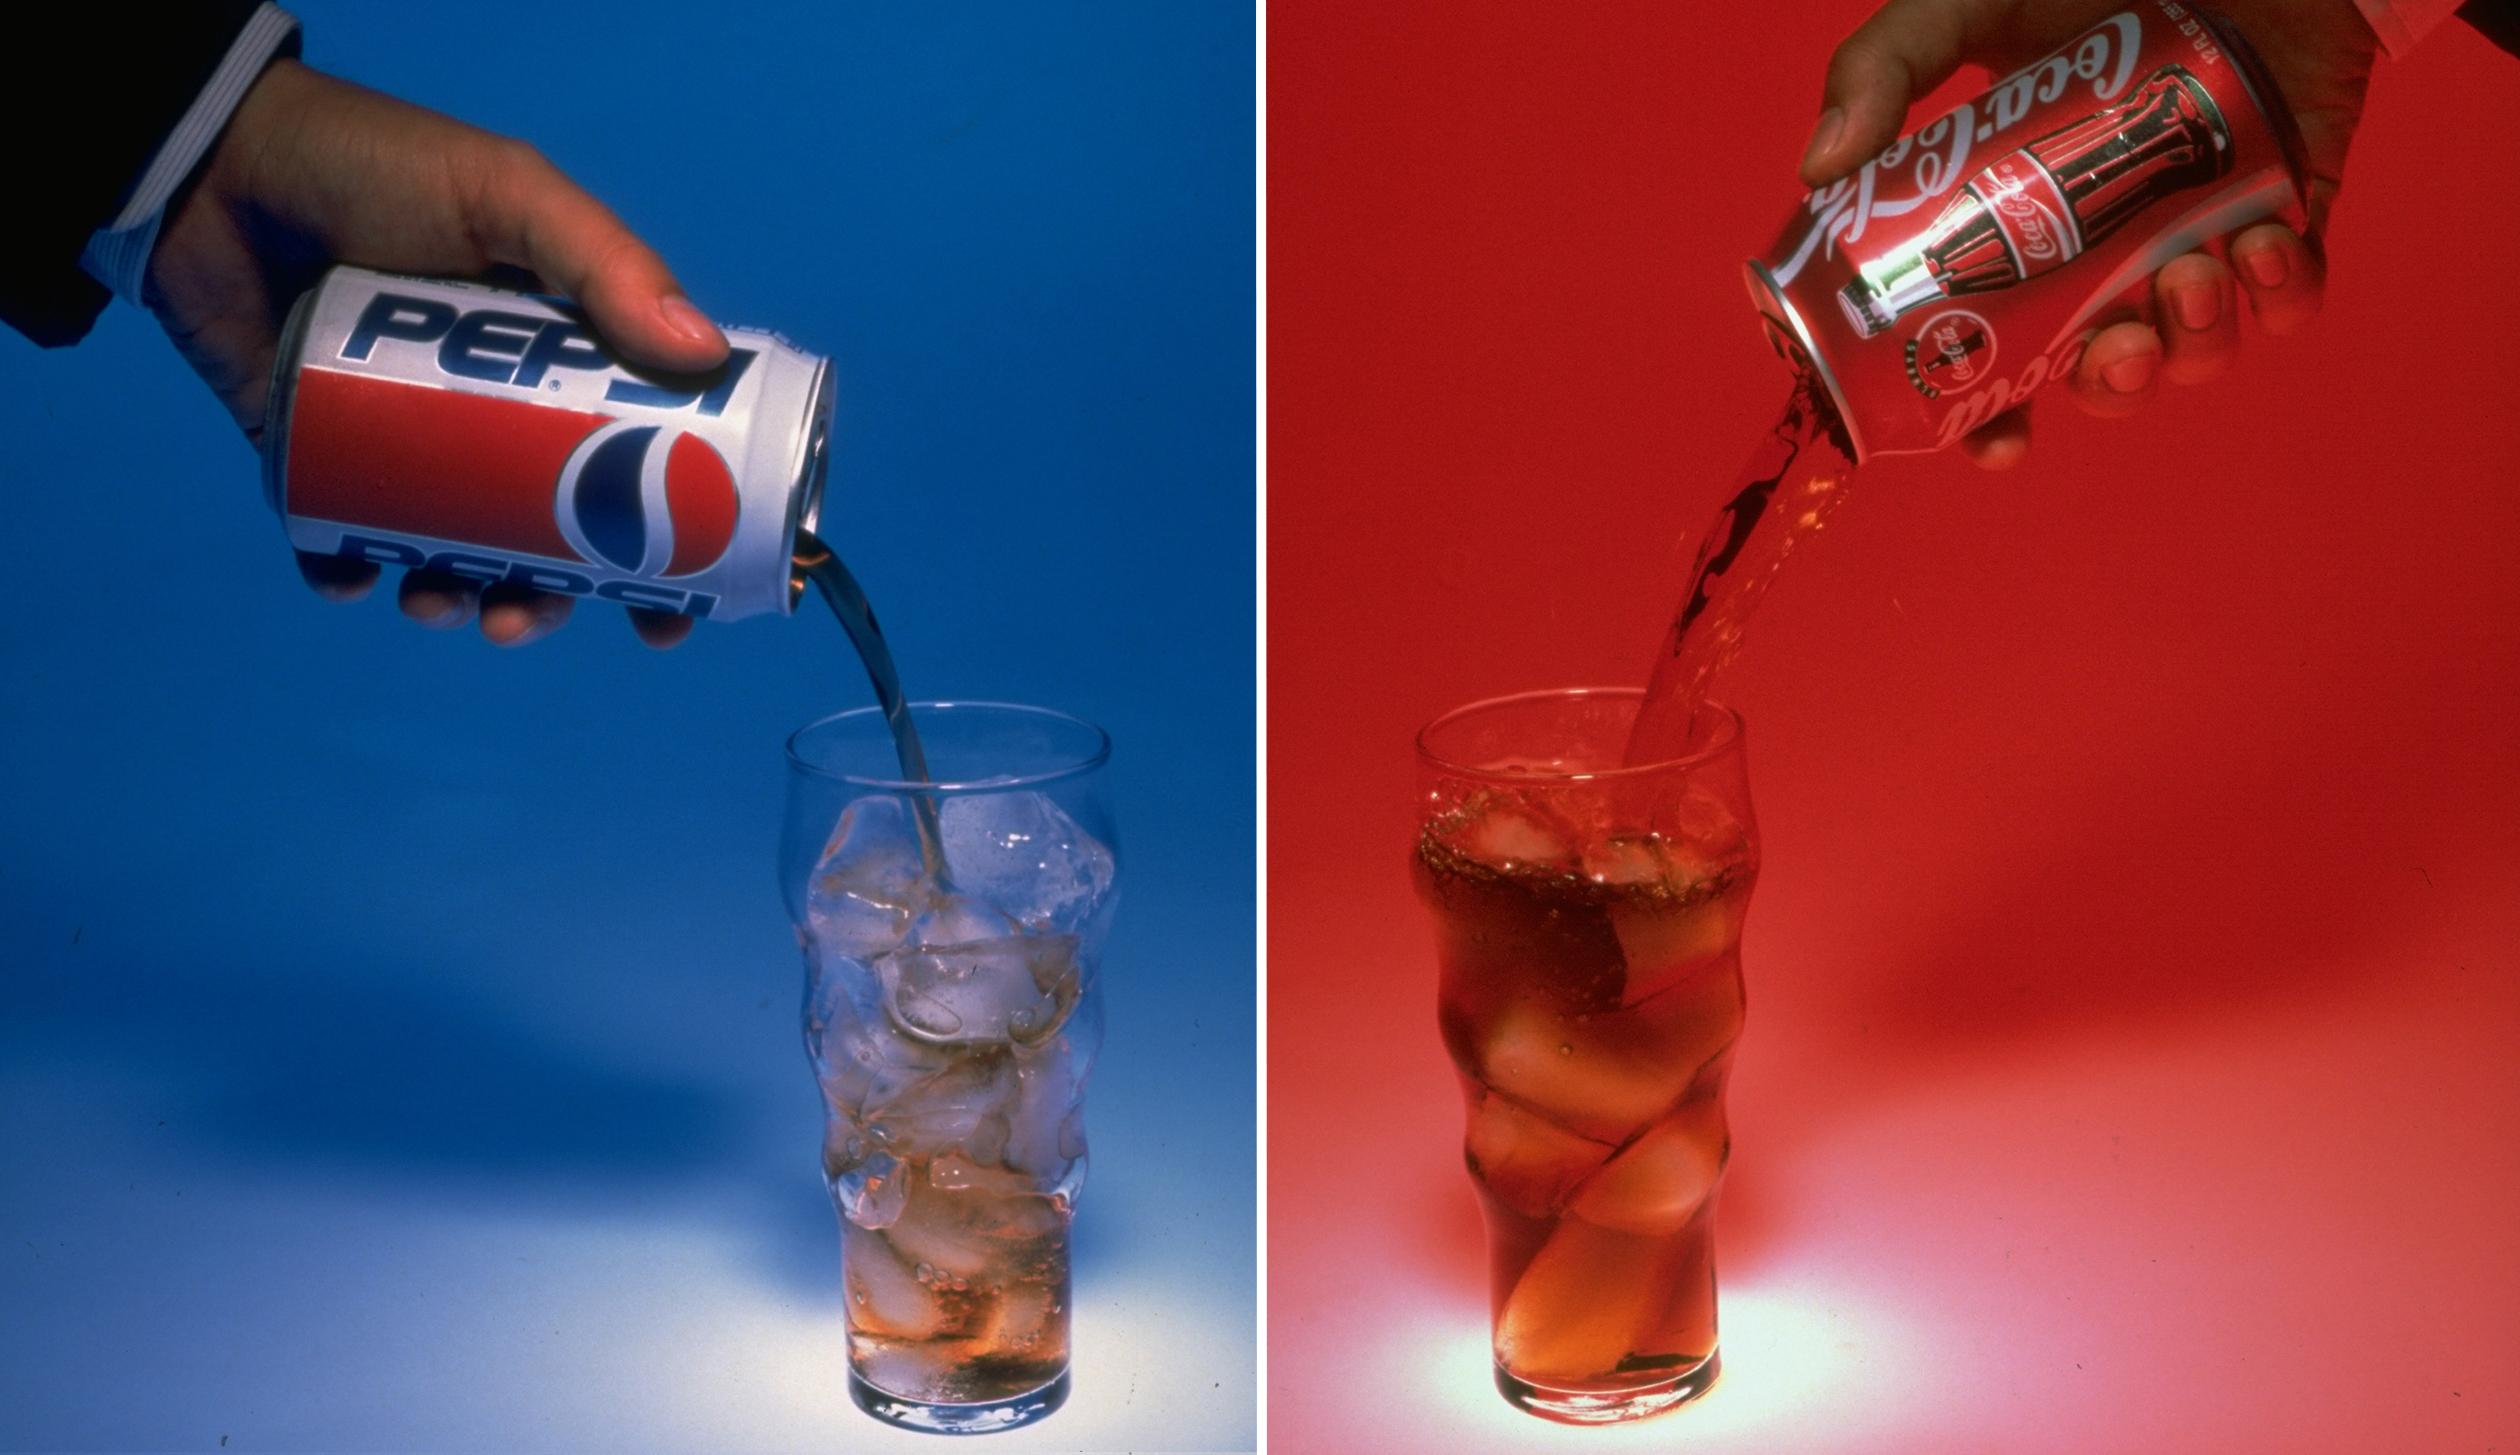pepsi: (551, 407, 745, 575), (566, 424, 745, 575)
